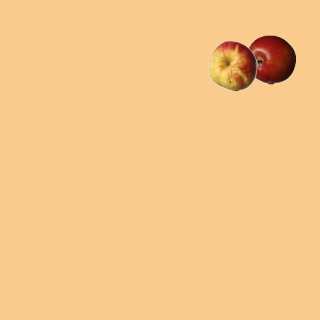Apple Braeburn: (245, 34, 295, 84)
Apple Red Yellow 1: (207, 40, 257, 90)
